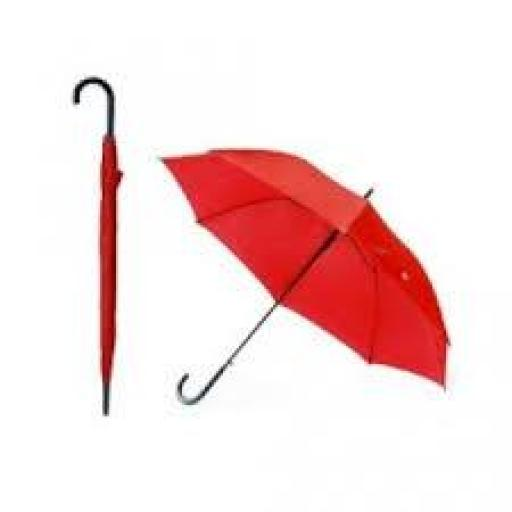guarda_chuva: (154, 146, 450, 405), (70, 75, 123, 414)
